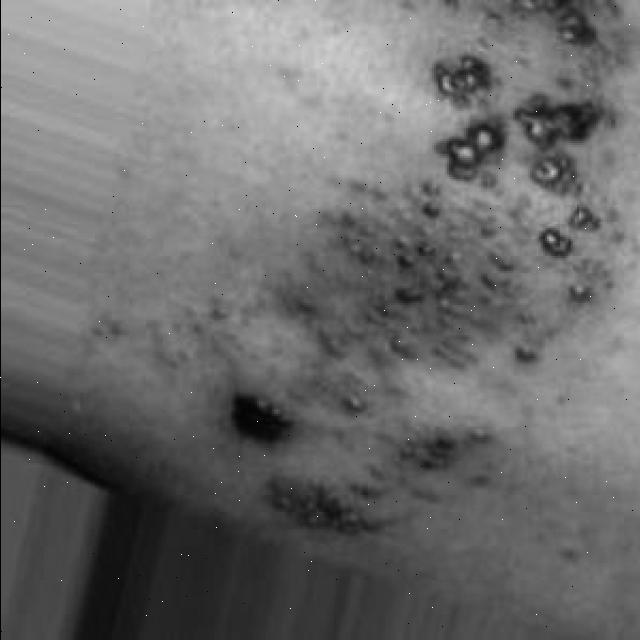Shingles: (270, 0, 617, 530)
